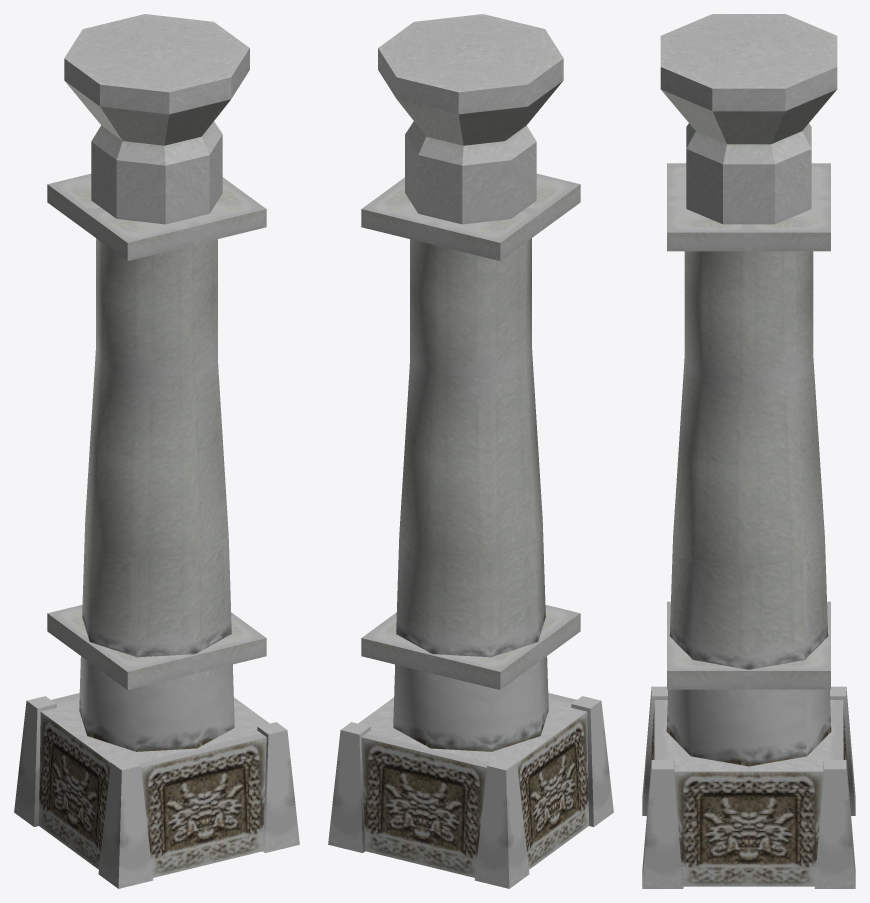
The model's file is general_obj_bigtower03.fbx.
The picture shows the model from 3 angles, left to right: view 1: azimuth 30°, elevation 25°; view 2: azimuth 150°, elevation 25°; view 3: azimuth 270°, elevation 25°; orthographic projection. The views are drawn at different scales.
Parts seen in each view (by area): view 1: Sphere01; view 2: Sphere01; view 3: Sphere01.
Part boxes in pixels (bbox=[...]): Sphere01: bbox=[14, 14, 299, 888]; Sphere01: bbox=[328, 14, 613, 888]; Sphere01: bbox=[642, 14, 855, 888].
Size of the model in its own units: 5.22 by 21.37 by 5.21.
